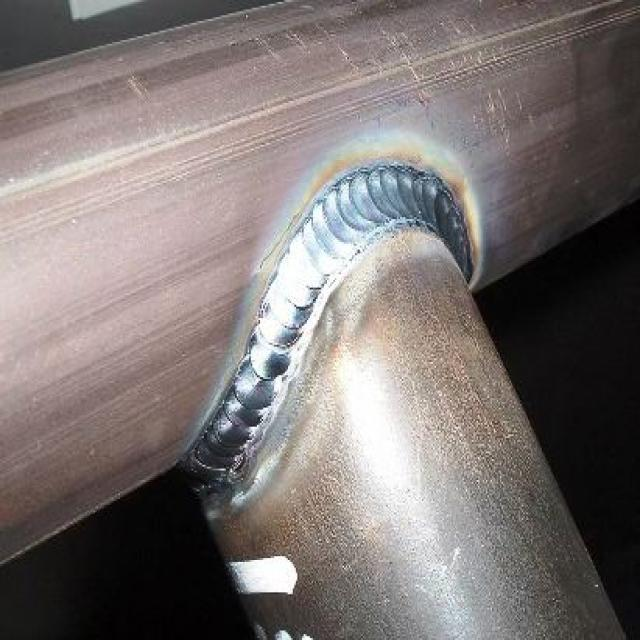Good Welding: (186, 165, 472, 486)
